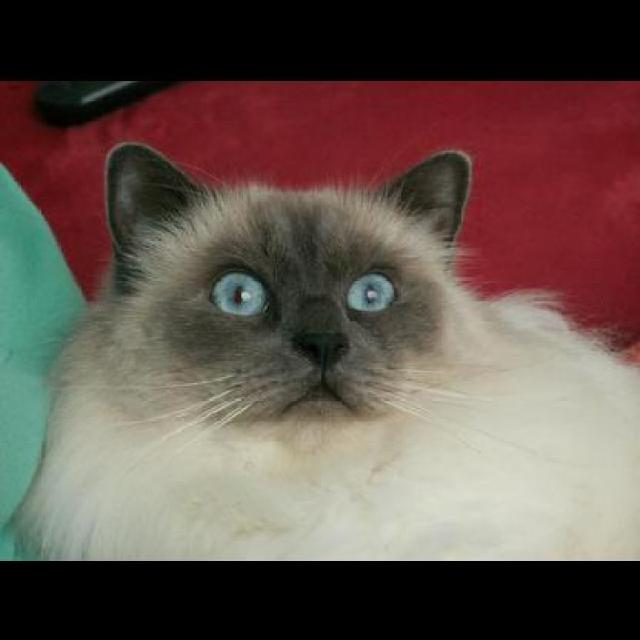unauthorized: (1, 138, 638, 560)
